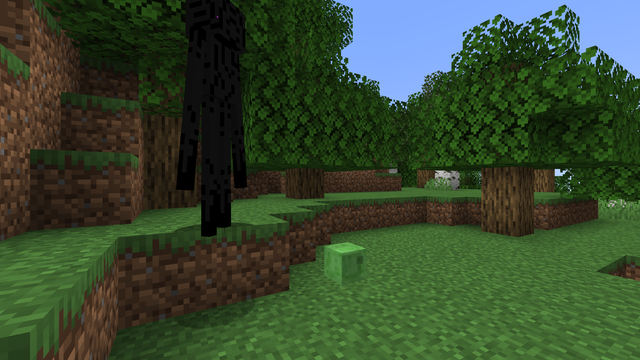endermens: (189, 0, 246, 235)
slimes: (323, 240, 366, 285)
